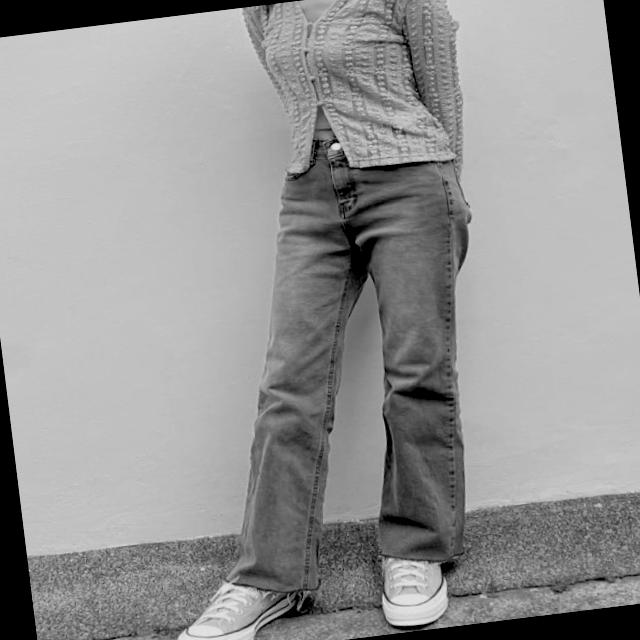cardigan: (242, 0, 475, 203)
denimpants: (174, 117, 514, 605)
